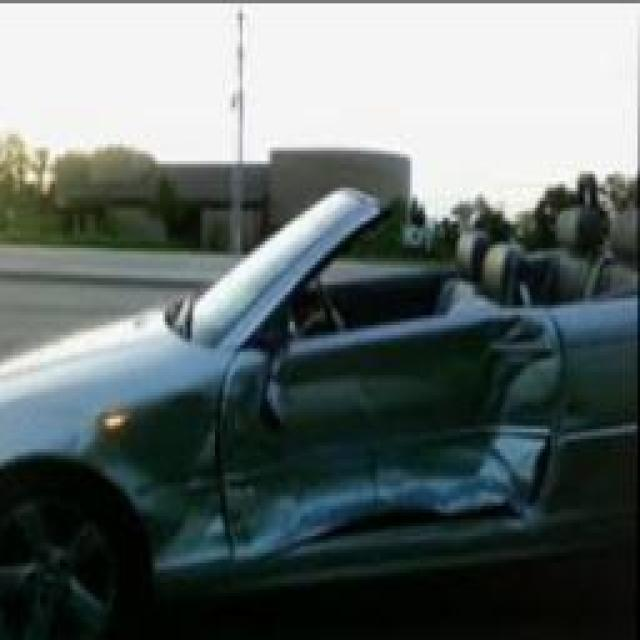Door: (212, 313, 552, 567)
